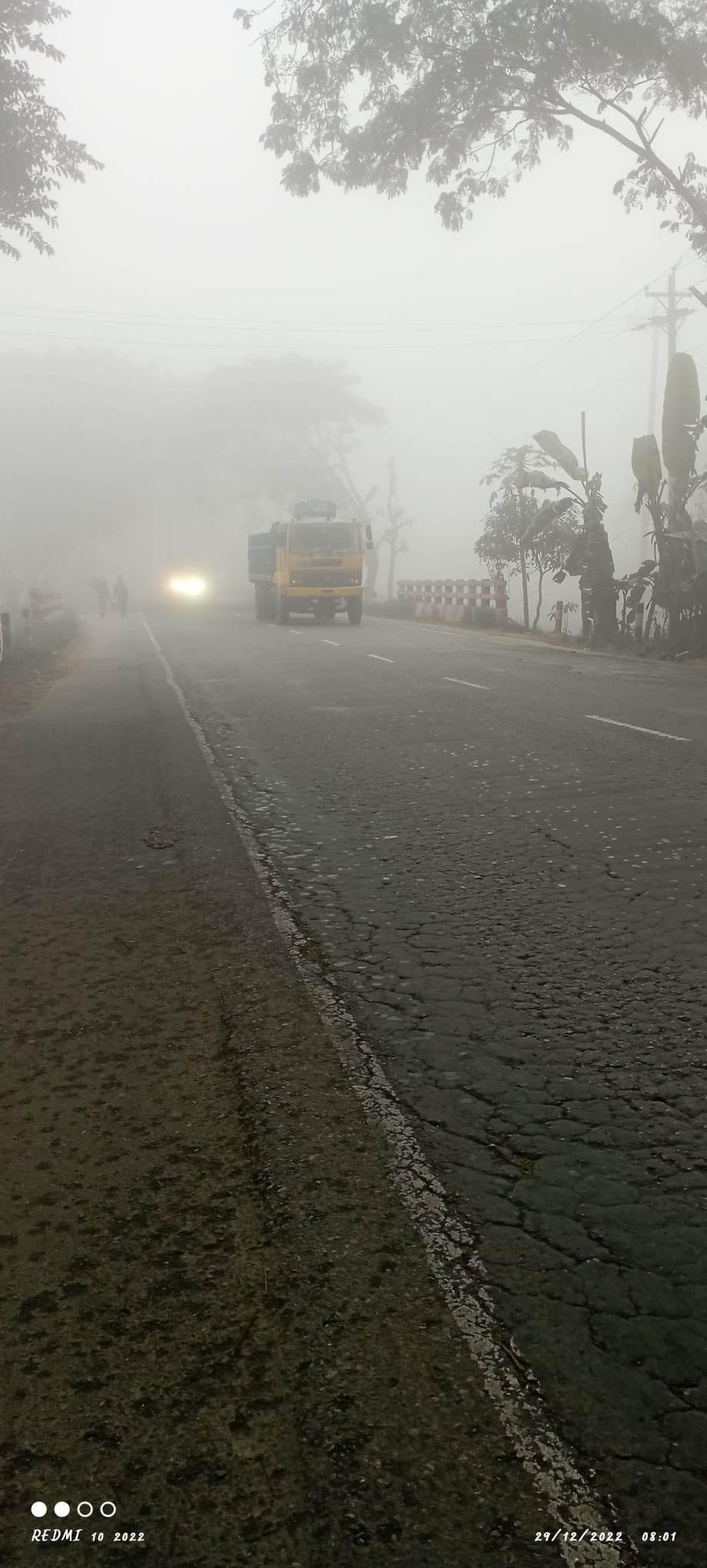Truck: (234, 490, 399, 633)
